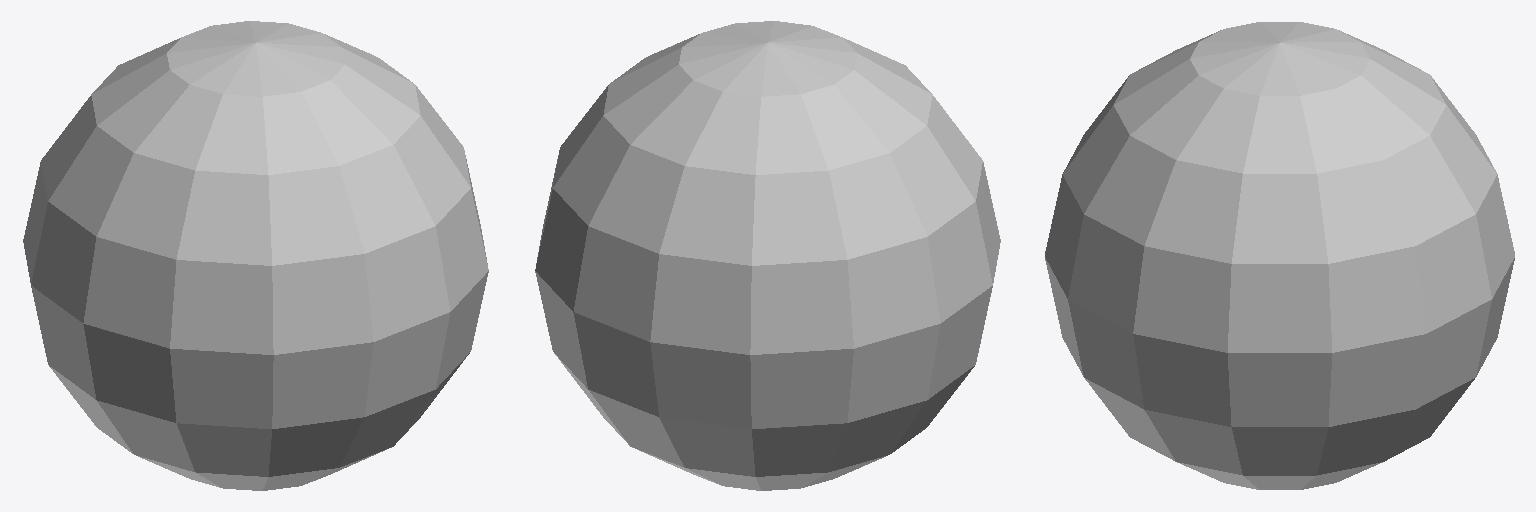
The model's file is fbemojisphere.obj.
3 renders of one model, left to right at view 1: azimuth 30°, elevation 25°; view 2: azimuth 150°, elevation 25°; view 3: azimuth 270°, elevation 25°, orthographic.
Visible parts, largest first — view 1: Sphere; view 2: Sphere; view 3: Sphere.
Part boxes in pixels (x1,y1,x2,y2): Sphere: (23, 21, 488, 490); Sphere: (535, 21, 1000, 490); Sphere: (1045, 22, 1514, 489).
Bounding box in the file's own units: 1.47 × 1.51 × 1.51.